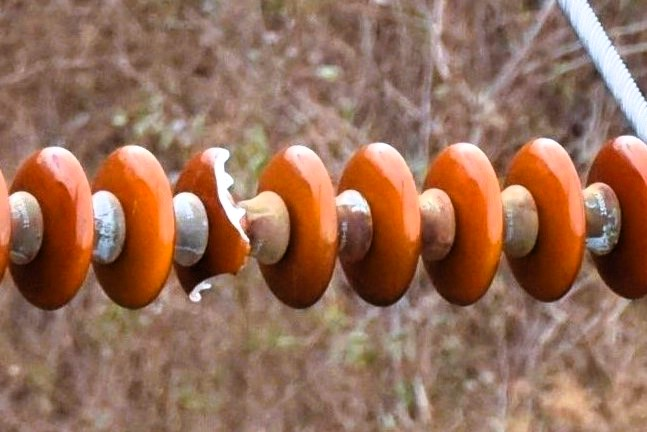insulator breakage: (176, 146, 250, 304)
